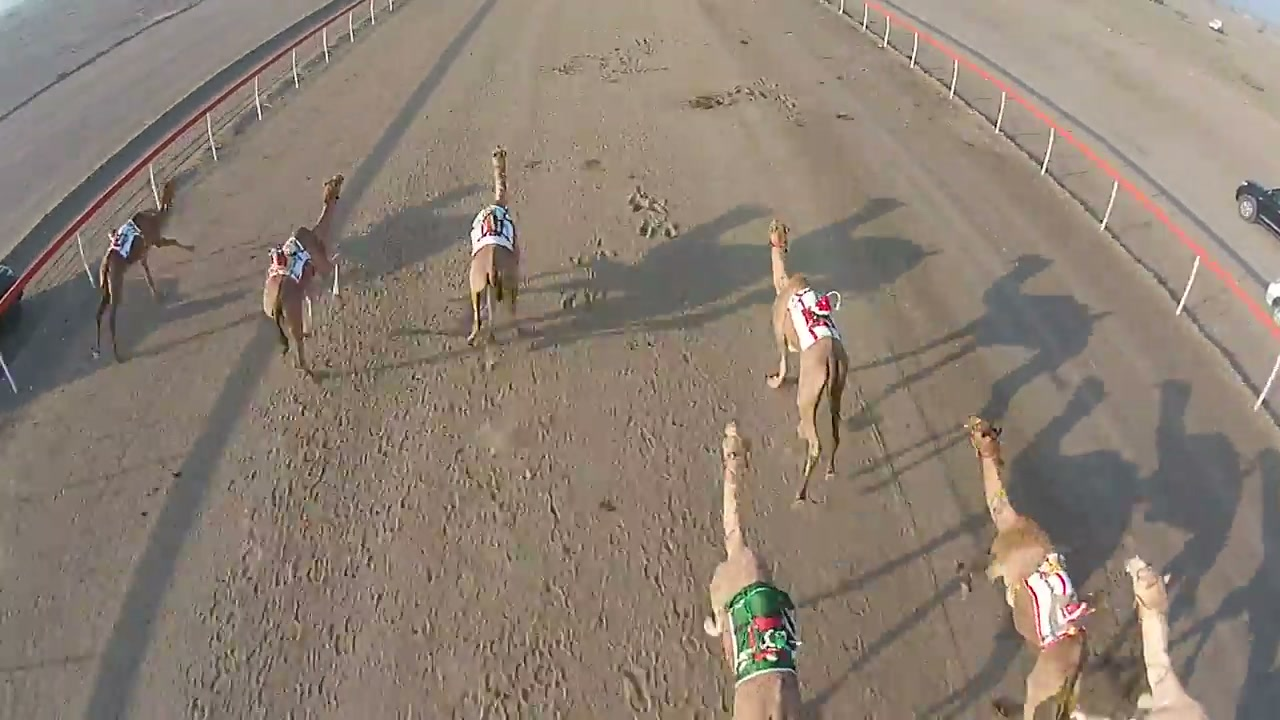animal_foot_print: (148, 338, 429, 713), (397, 324, 606, 719), (631, 375, 724, 702)
